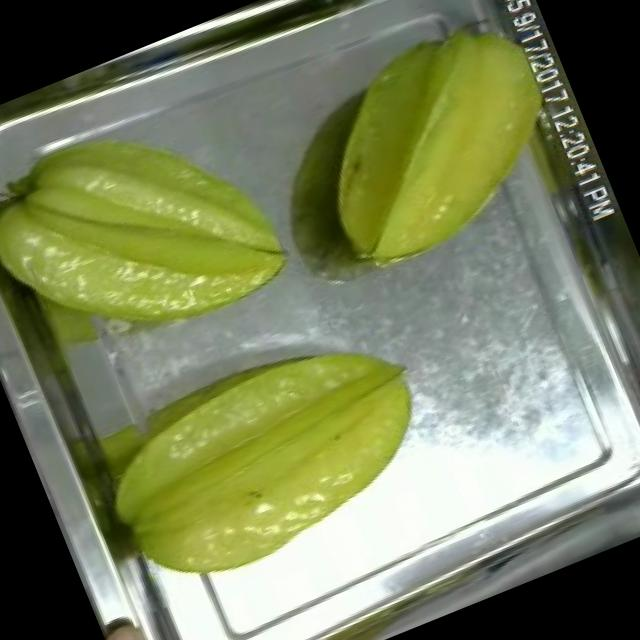fruit: (65, 302, 460, 622), (0, 69, 313, 387), (271, 0, 592, 290)
